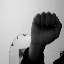a: (30, 12, 62, 44)
